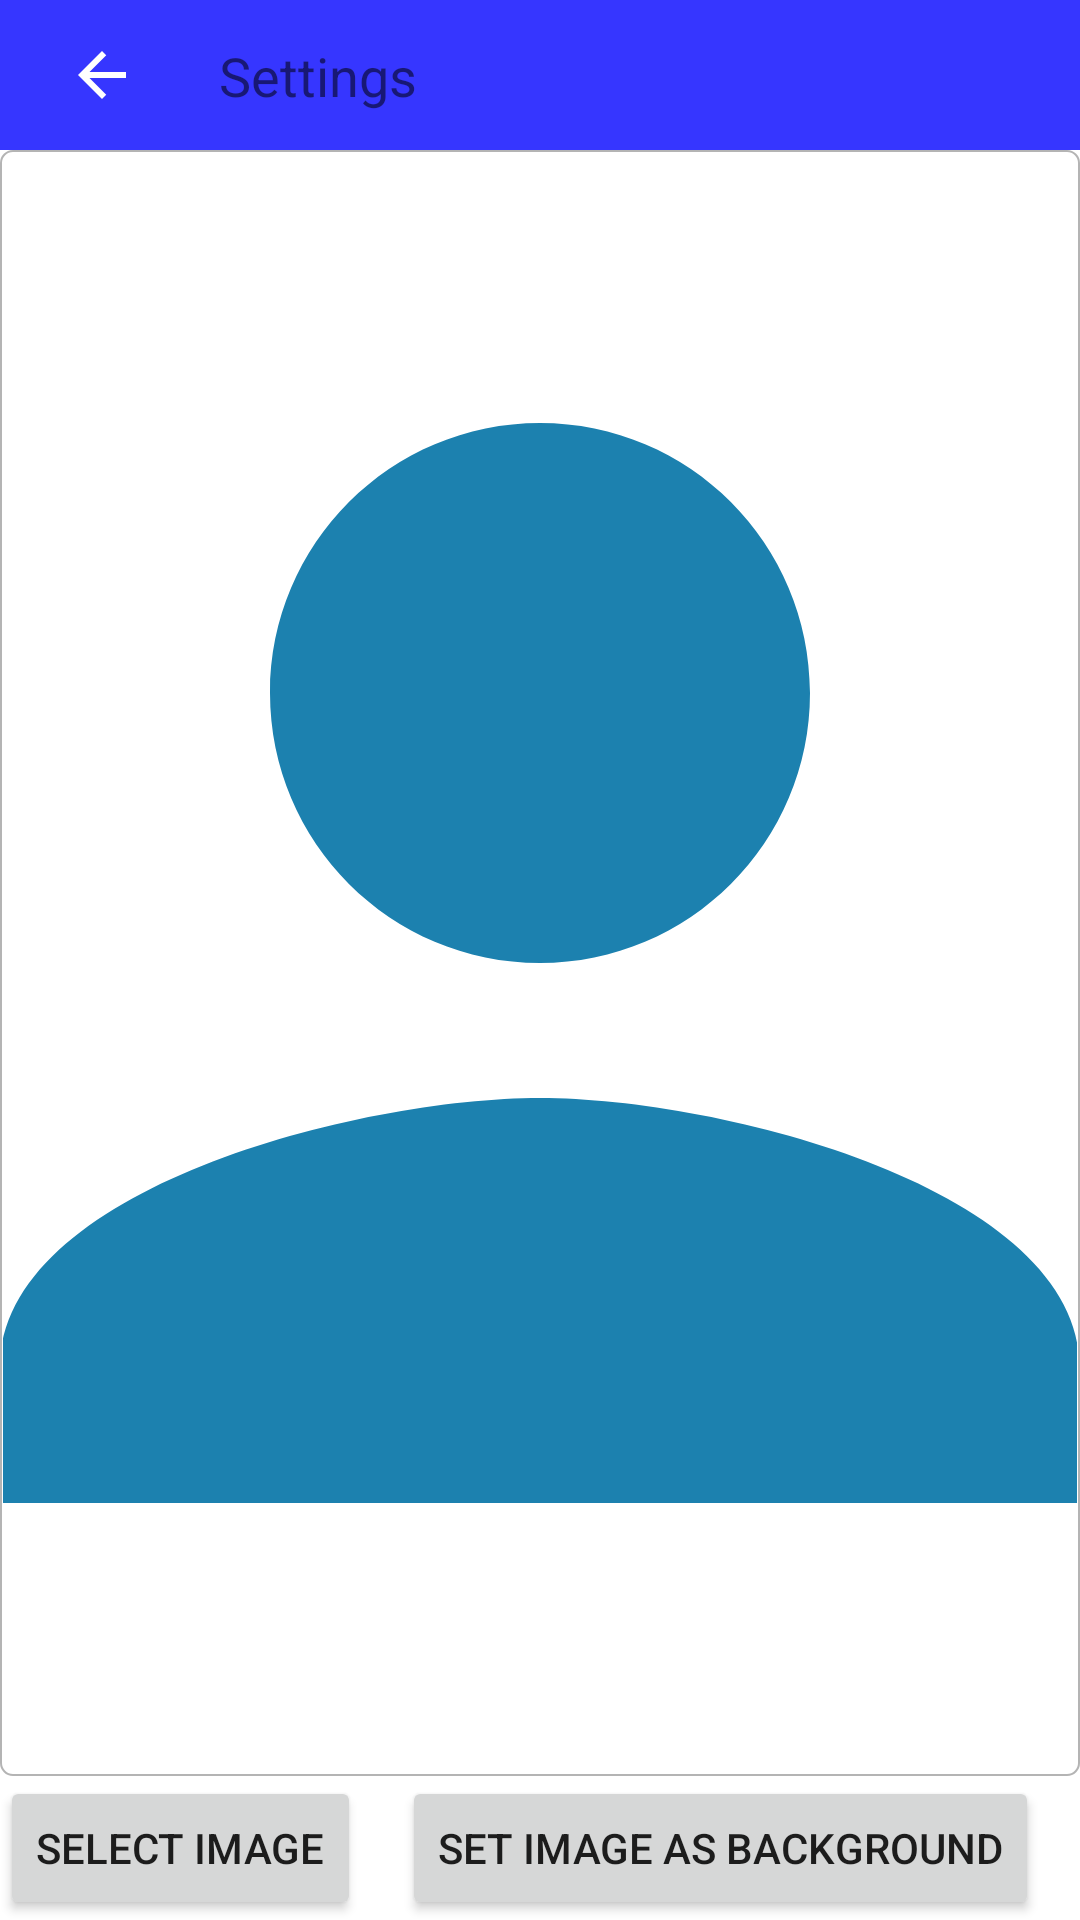

Screen size 1080 × 1920. Icon name, then its box in pixels as (left=x1, top=y1, right=x2, bottom=y2):
arrow back: (left=78, top=51, right=126, bottom=99)
